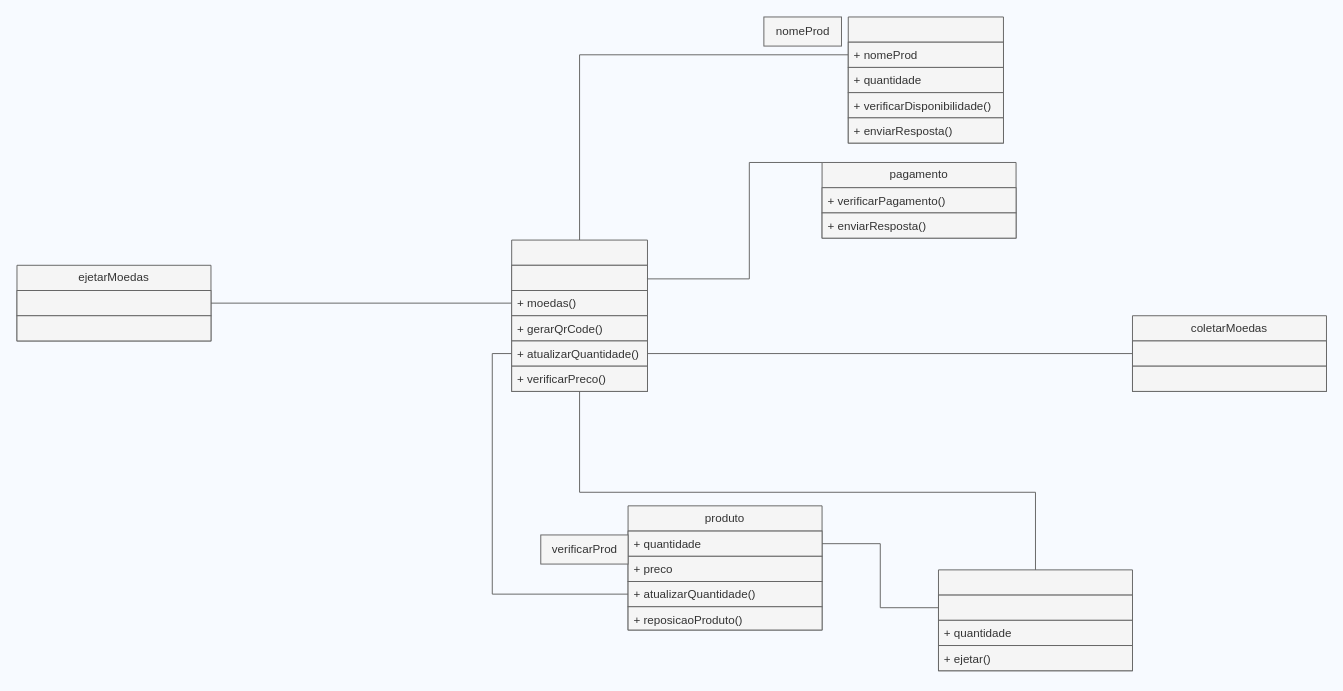
Some shapes in this 1343 by 691 pixel diagram are drawn without their labels. Here are the shapes that lost their labels. From the top down, the box of each, then its label:
(847, 16, 1003, 143): selecaoProduto
(511, 264, 647, 291): + ejetarProduto()
(16, 290, 211, 316): + contarMoedas
(511, 239, 647, 391): maquina de venda
(16, 315, 211, 341): + ejetarMoedas()
(1132, 340, 1326, 366): + contarPreco
(1132, 365, 1326, 391): + contarMoedas()
(938, 594, 1132, 620): + produto
(938, 569, 1132, 671): ejetarProduto
